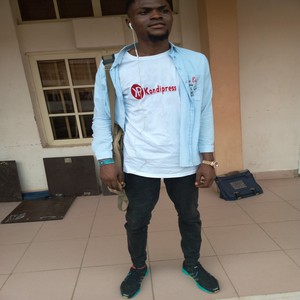Fulokoja_male_student: (123, 2, 215, 288)
